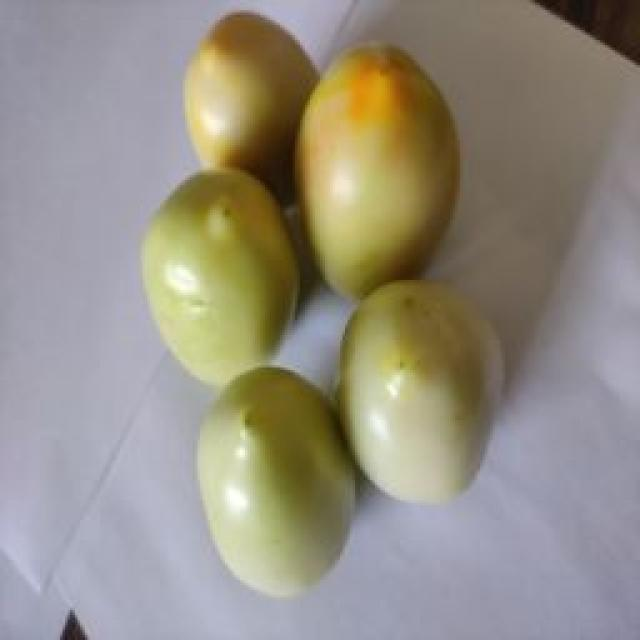tomato: (293, 42, 461, 307), (196, 365, 361, 603), (335, 283, 506, 509), (142, 170, 304, 388), (181, 13, 322, 210)
